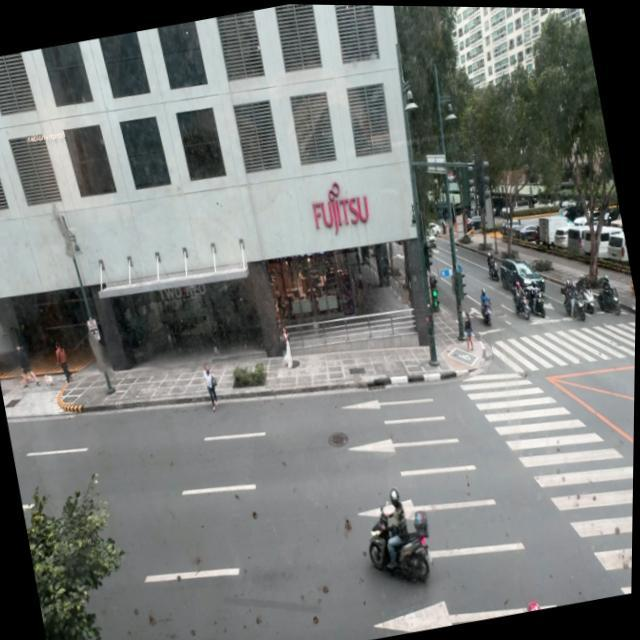jaywalking: (202, 361, 223, 411)
